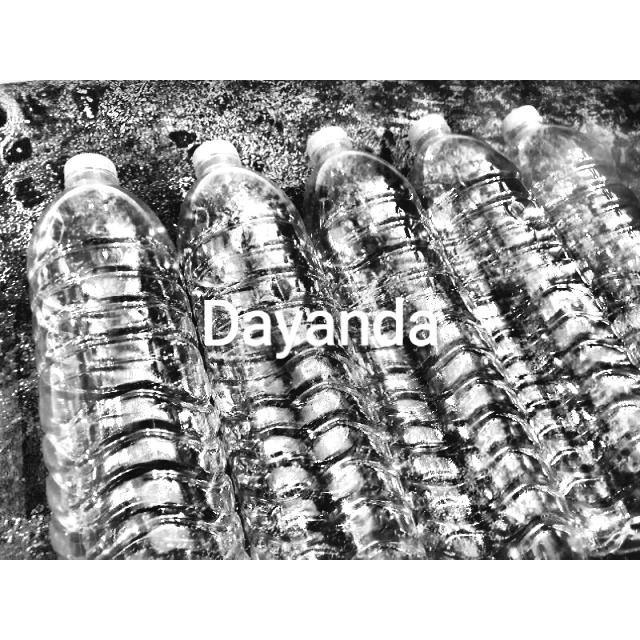waterbottle: (282, 120, 590, 616), (156, 131, 428, 633), (392, 102, 640, 560), (22, 146, 257, 620), (493, 97, 640, 401)
